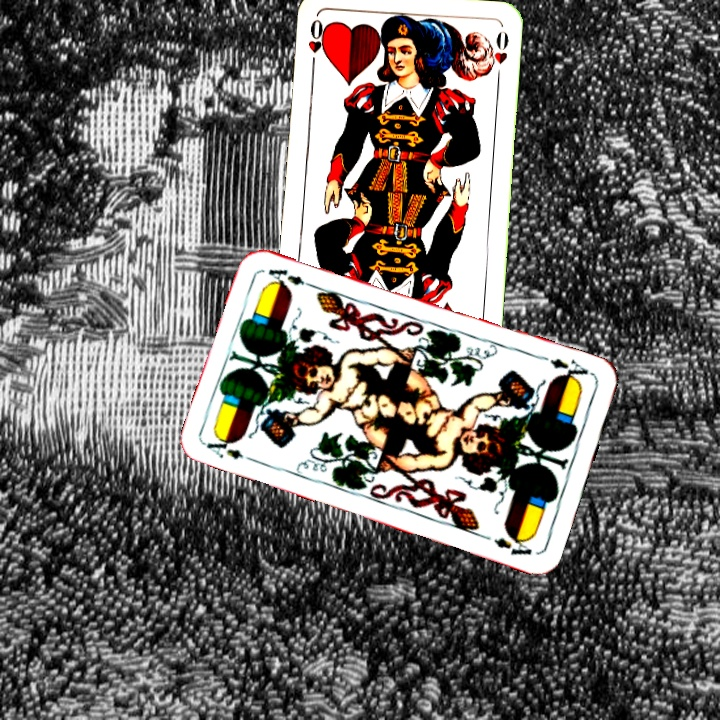EA: (202, 430, 260, 465), (538, 352, 596, 386)
HO: (303, 15, 328, 73)
